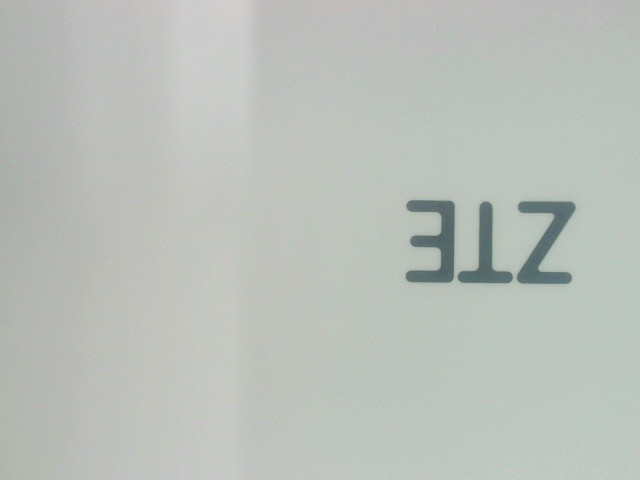AN_ZTELarge: (394, 183, 593, 293)
